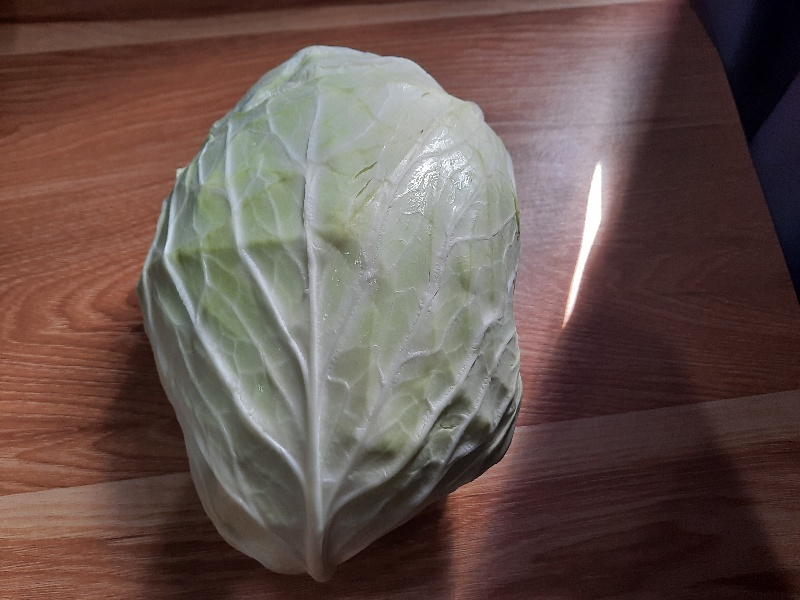vege: (130, 39, 528, 590)
